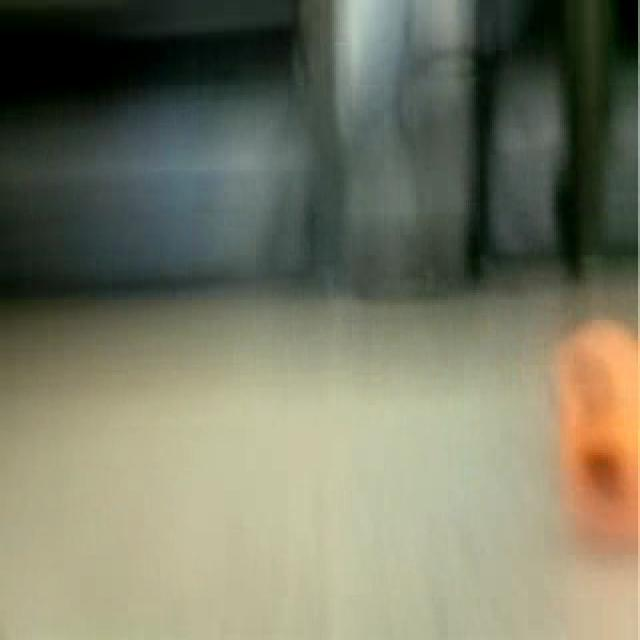oball: (556, 315, 640, 546)
